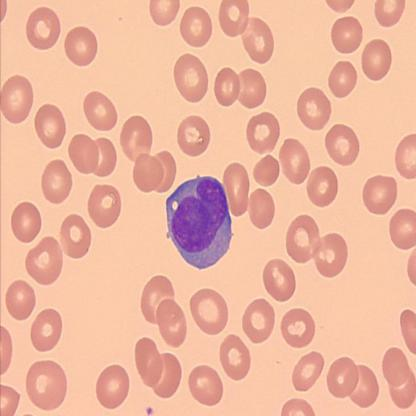Blast: (162, 171, 236, 274)
